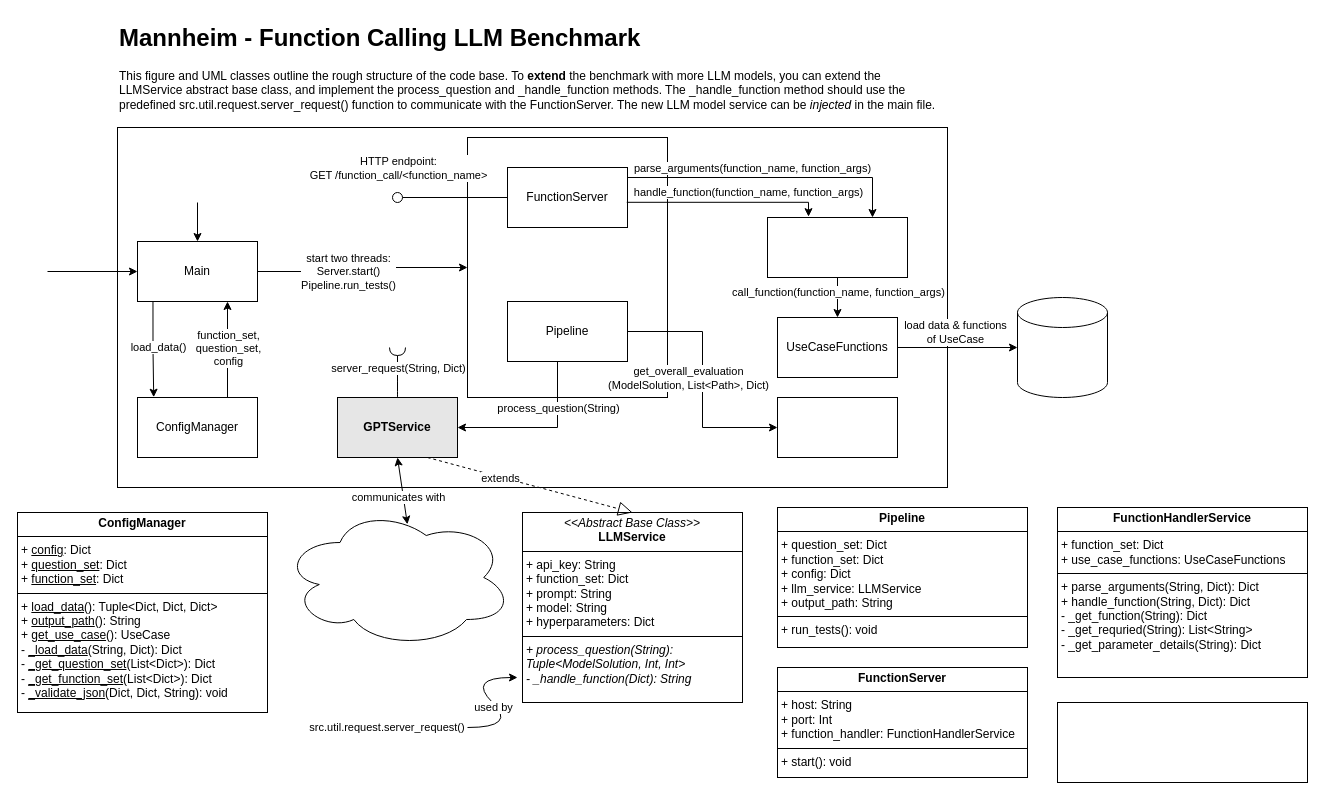
Some shapes in this 1325 by 800 pixel diagram are drawn without their labels. Here are the shapes that lost their labels. From the top down, the box of each, then its label:
(766, 216, 908, 278): FunctionHandlerService
(1016, 296, 1108, 398): Data & Functions
(776, 396, 898, 458): Evaluator
(282, 506, 512, 648): LLM API
(1056, 702, 1308, 782): UseCaseFunctions + available_functions: Dict + call_function(String, Dict): Dict
